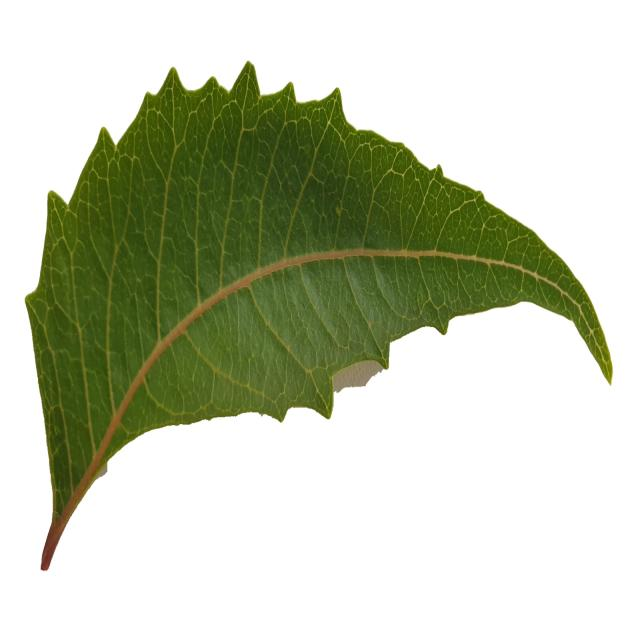Medicinal-Neem: (22, 57, 613, 571)
